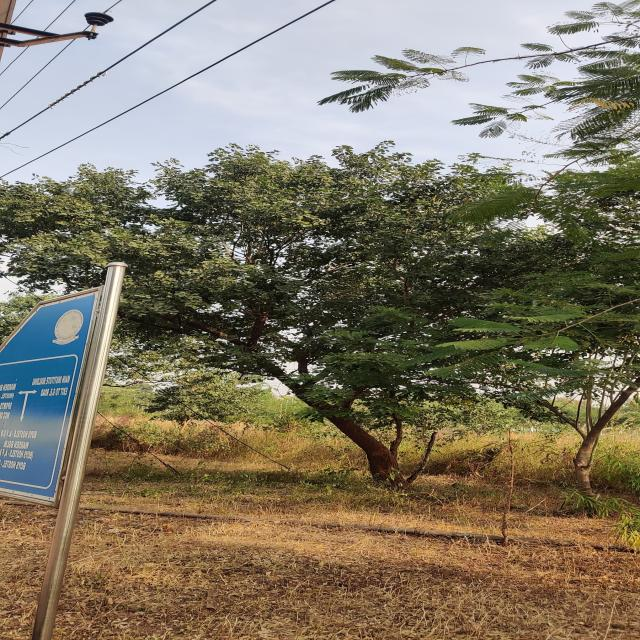Devakanchan tree: (1, 150, 545, 379)
